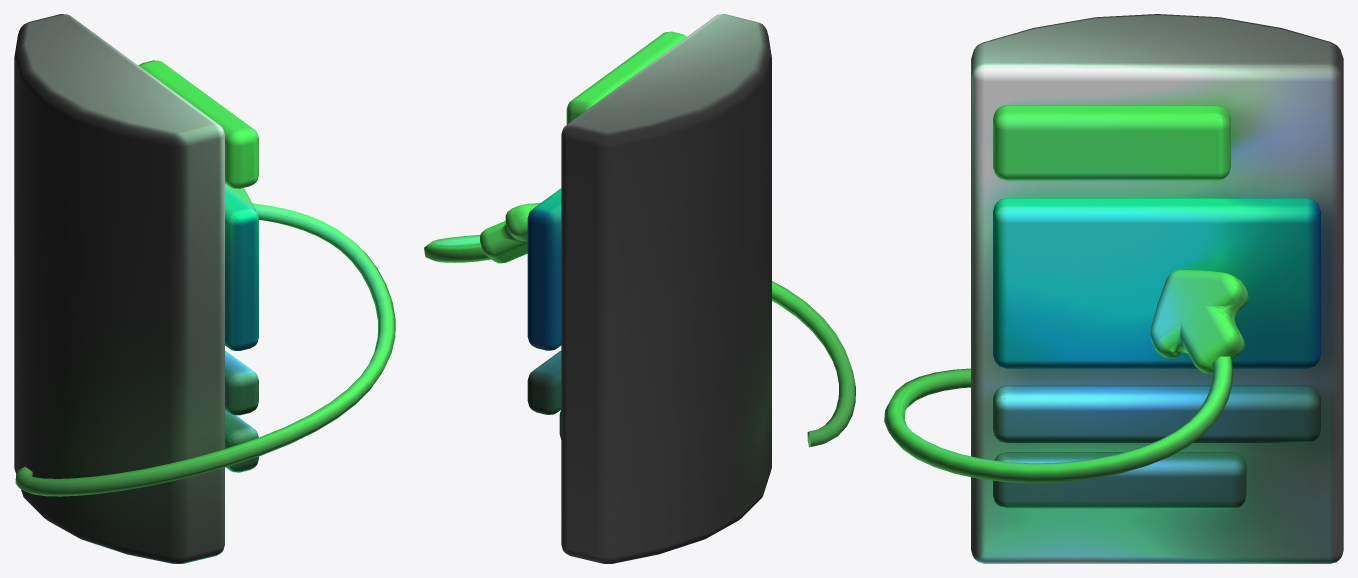
Rendered from Cate_Magazine_Model.glb.
3 views of the same model, side by side, from view 1: azimuth 30°, elevation 25°; view 2: azimuth 150°, elevation 25°; view 3: azimuth 270°, elevation 25° (orthographic). The views are drawn at different scales.
Parts seen in each view (by area): view 1: Cate_Magazine_Model; view 2: Cate_Magazine_Model; view 3: Cate_Magazine_Model.
Part boxes in pixels (x1,y1,x2,y2): Cate_Magazine_Model: [14, 14, 395, 563]; Cate_Magazine_Model: [424, 14, 855, 563]; Cate_Magazine_Model: [884, 14, 1343, 563].
Bounding box in the file's own units: 0.8092 × 0.886 × 0.7386.
1 material, 1 textured.
